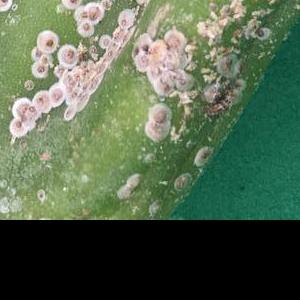Femea: (131, 32, 195, 94), (8, 82, 65, 141), (28, 29, 80, 80), (64, 82, 105, 121), (80, 39, 114, 80), (70, 0, 104, 37)
